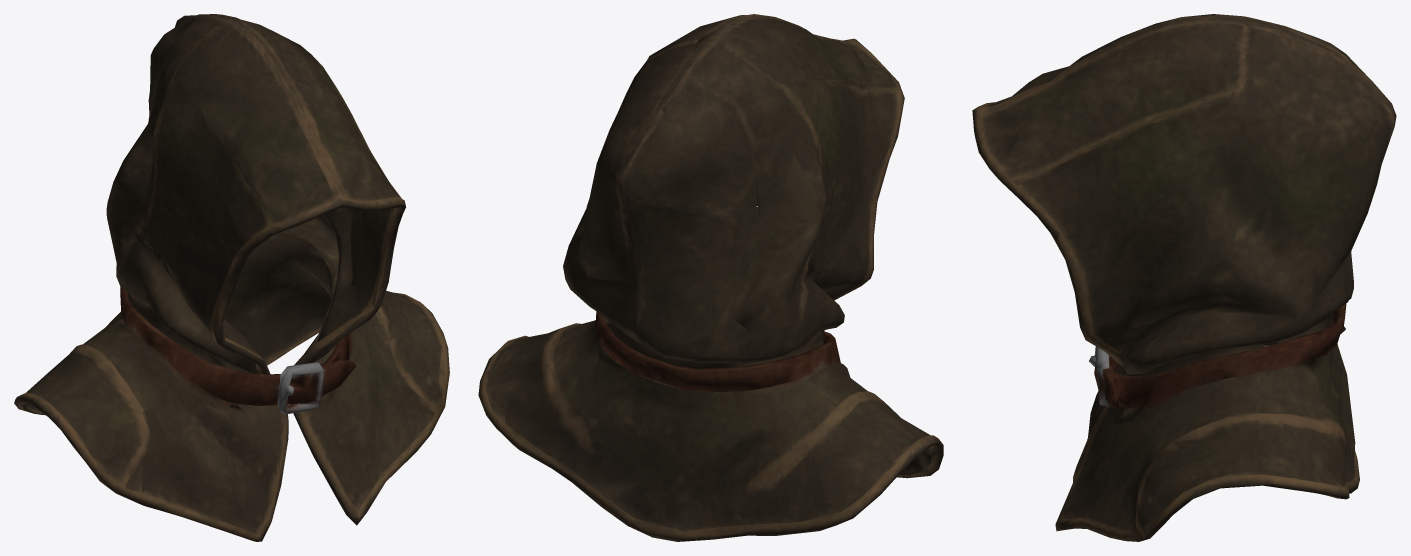
File: leather-hood-20k-v1.glb
3 views of the same model, side by side, from view 1: azimuth 30°, elevation 25°; view 2: azimuth 150°, elevation 25°; view 3: azimuth 270°, elevation 25° (orthographic). The views are drawn at different scales.
Parts seen in each view (by area): view 1: leather-hood-20k-v1; view 2: leather-hood-20k-v1; view 3: leather-hood-20k-v1.
Part boxes in pixels (x1,y1,x2,y2): leather-hood-20k-v1: (14,14,449,541); leather-hood-20k-v1: (478,14,943,541); leather-hood-20k-v1: (972,14,1396,541).
Bounding box in the file's own units: 0.8928 × 1 × 0.7785.
1 material, 1 textured.
